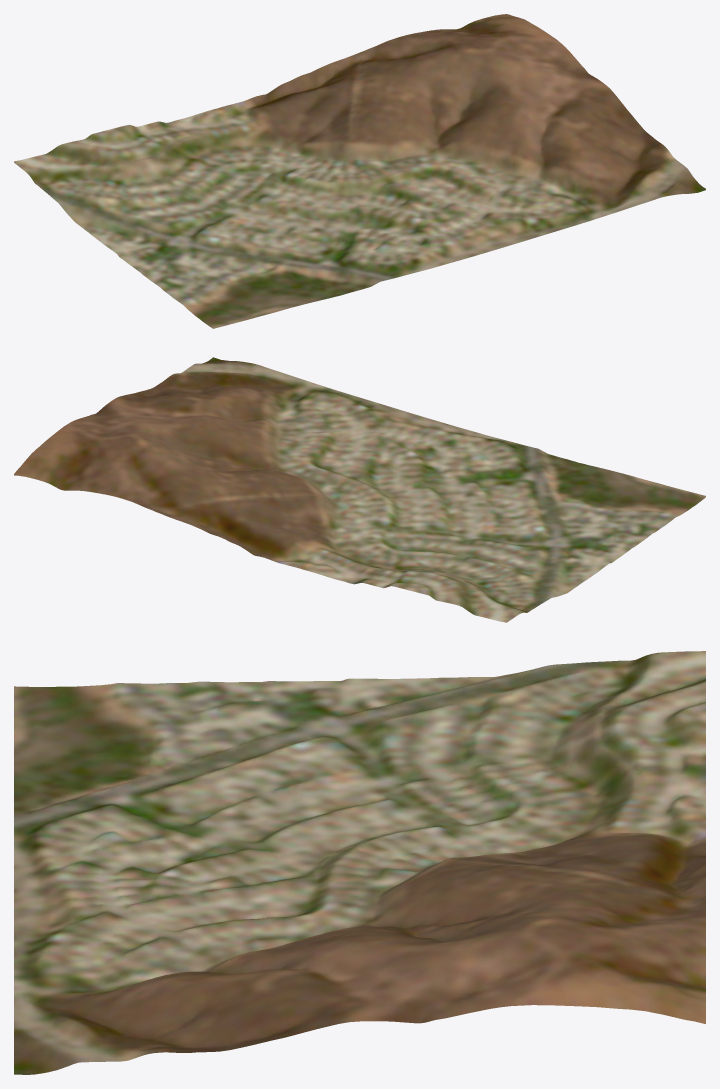
File: terrain_r5_c5.glb
3 renders of one model, top to bottom at view 1: azimuth 30°, elevation 25°; view 2: azimuth 150°, elevation 25°; view 3: azimuth 270°, elevation 25°, orthographic. The views are drawn at different scales.
Visible parts, largest first — view 1: terrain_r5_c5_lod0; view 2: terrain_r5_c5_lod0; view 3: terrain_r5_c5_lod0.
Part boxes in pixels (x1=…): terrain_r5_c5_lod0: x1=14, y1=14, x2=705, y2=328; terrain_r5_c5_lod0: x1=14, y1=357, x2=705, y2=622; terrain_r5_c5_lod0: x1=14, y1=651, x2=705, y2=1074.
Size of the model in its own units: 1125 by 147 by 787.
Materials: 1 (1 with a texture image).
